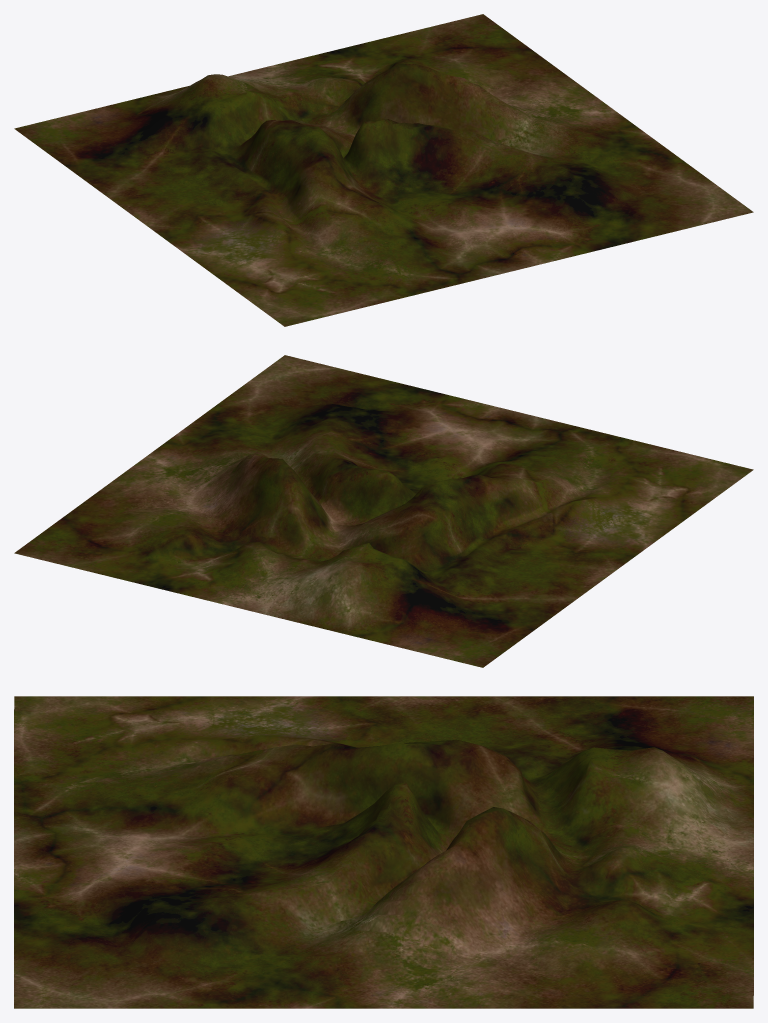
File: pulau.fbx
3 renders of one model, top to bottom at view 1: azimuth 30°, elevation 25°; view 2: azimuth 150°, elevation 25°; view 3: azimuth 270°, elevation 25°, orthographic. The views are drawn at different scales.
Visible parts, largest first — view 1: pulau_low; view 2: pulau_low; view 3: pulau_low.
Part boxes in pixels (x1,y1,x2,y2): pulau_low: [14, 14, 753, 326]; pulau_low: [14, 355, 753, 667]; pulau_low: [14, 696, 753, 1008].
Bounding box in the file's own units: 658 × 82.9 × 658.
1 material, 1 textured.
